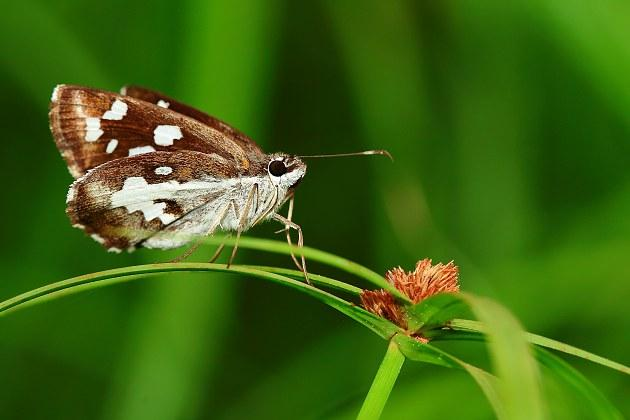Hesperiidae: (46, 79, 413, 278)
